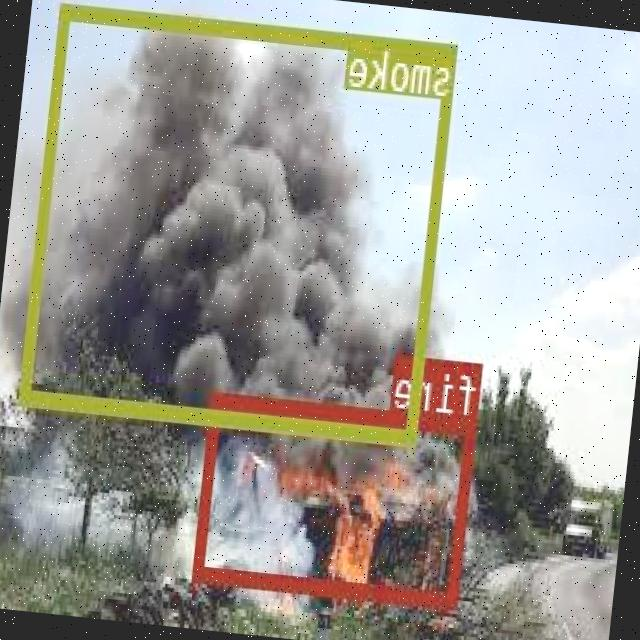fire: (195, 390, 478, 604)
smoke: (22, 1, 460, 443)
